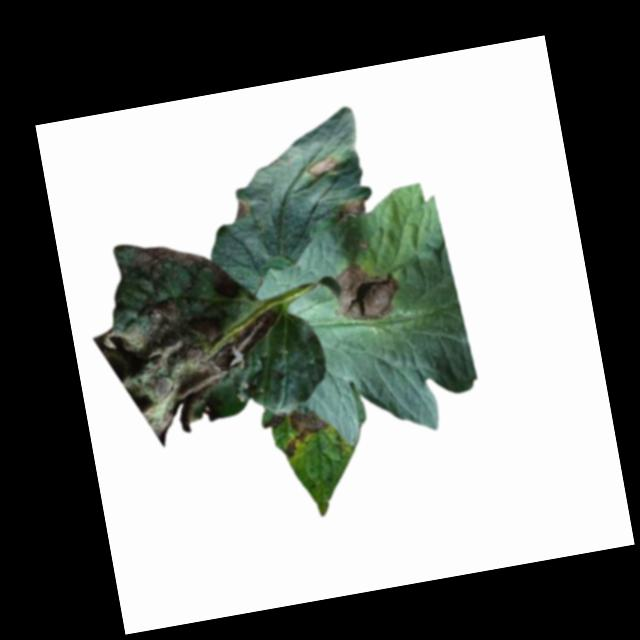Early_blight: (80, 218, 297, 454), (328, 256, 402, 328), (277, 403, 334, 460), (330, 193, 367, 221), (305, 152, 339, 176), (227, 194, 253, 222), (261, 408, 288, 431)
